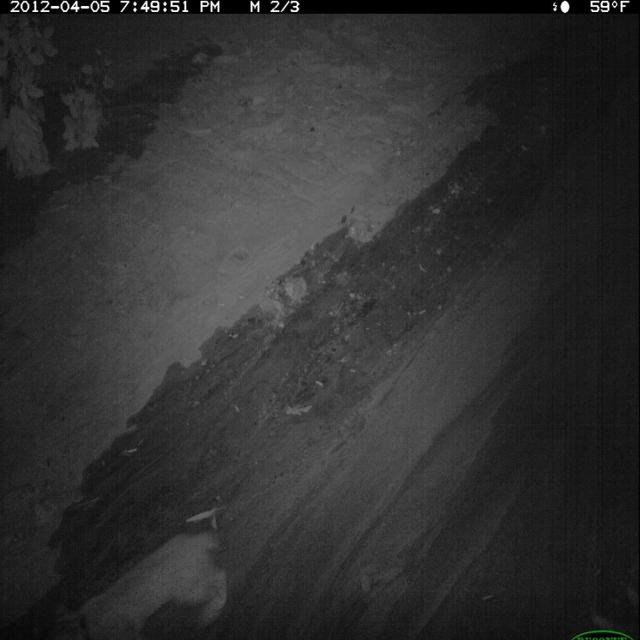bobcat: (57, 524, 234, 640)
